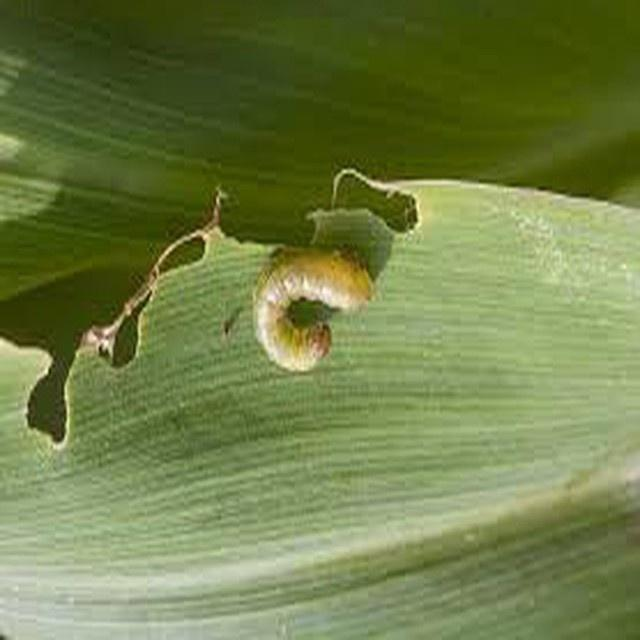gusano_cogollero: (250, 248, 373, 372)
